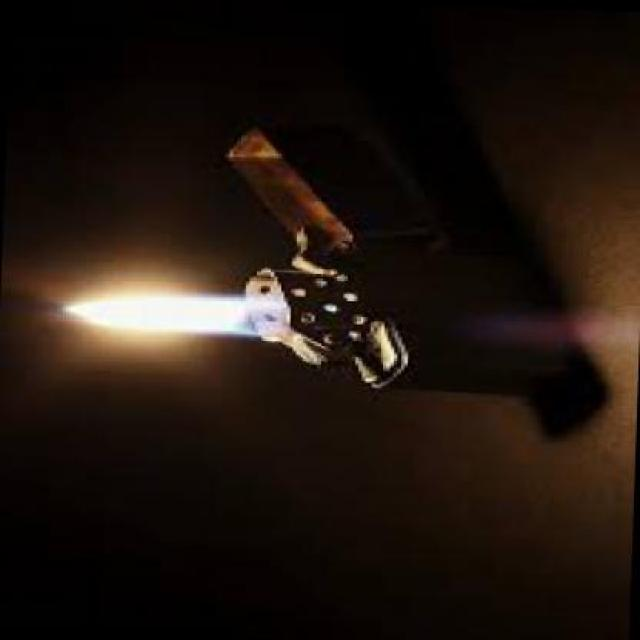Fire: (57, 274, 284, 346)
